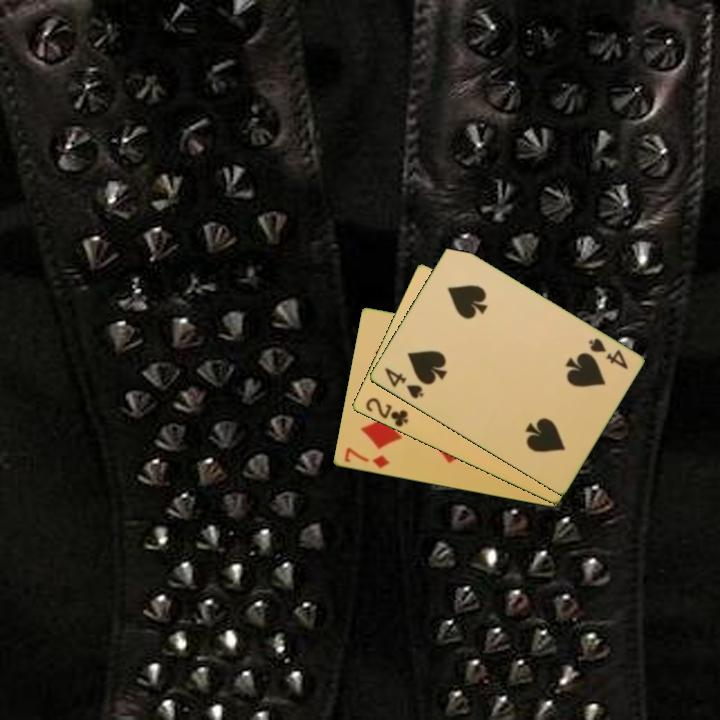2c: (362, 394, 411, 430)
4s: (584, 335, 631, 373), (380, 364, 426, 402)
7d: (340, 444, 392, 471)
